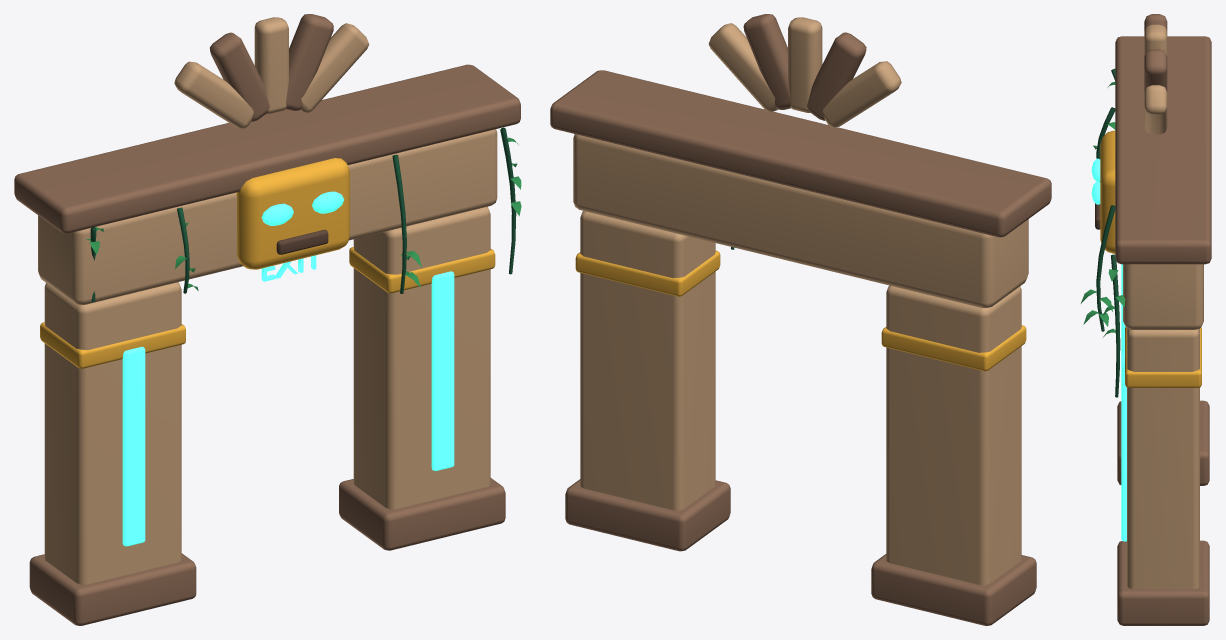
The model's file is jungle_portal_arch.glb.
3 views of the same model, side by side, from view 1: azimuth 30°, elevation 25°; view 2: azimuth 150°, elevation 25°; view 3: azimuth 270°, elevation 25° (orthographic). The views are drawn at different scales.
Parts seen in each view (by area): view 1: PortalArch; view 2: PortalArch; view 3: PortalArch.
Part boxes in pixels (left/top/right/bottom): PortalArch: left=14, top=14, right=521, bottom=625; PortalArch: left=550, top=14, right=1051, bottom=625; PortalArch: left=1080, top=14, right=1211, bottom=625.
Bounding box in the file's own units: 6.4 × 7.2 × 1.71.
